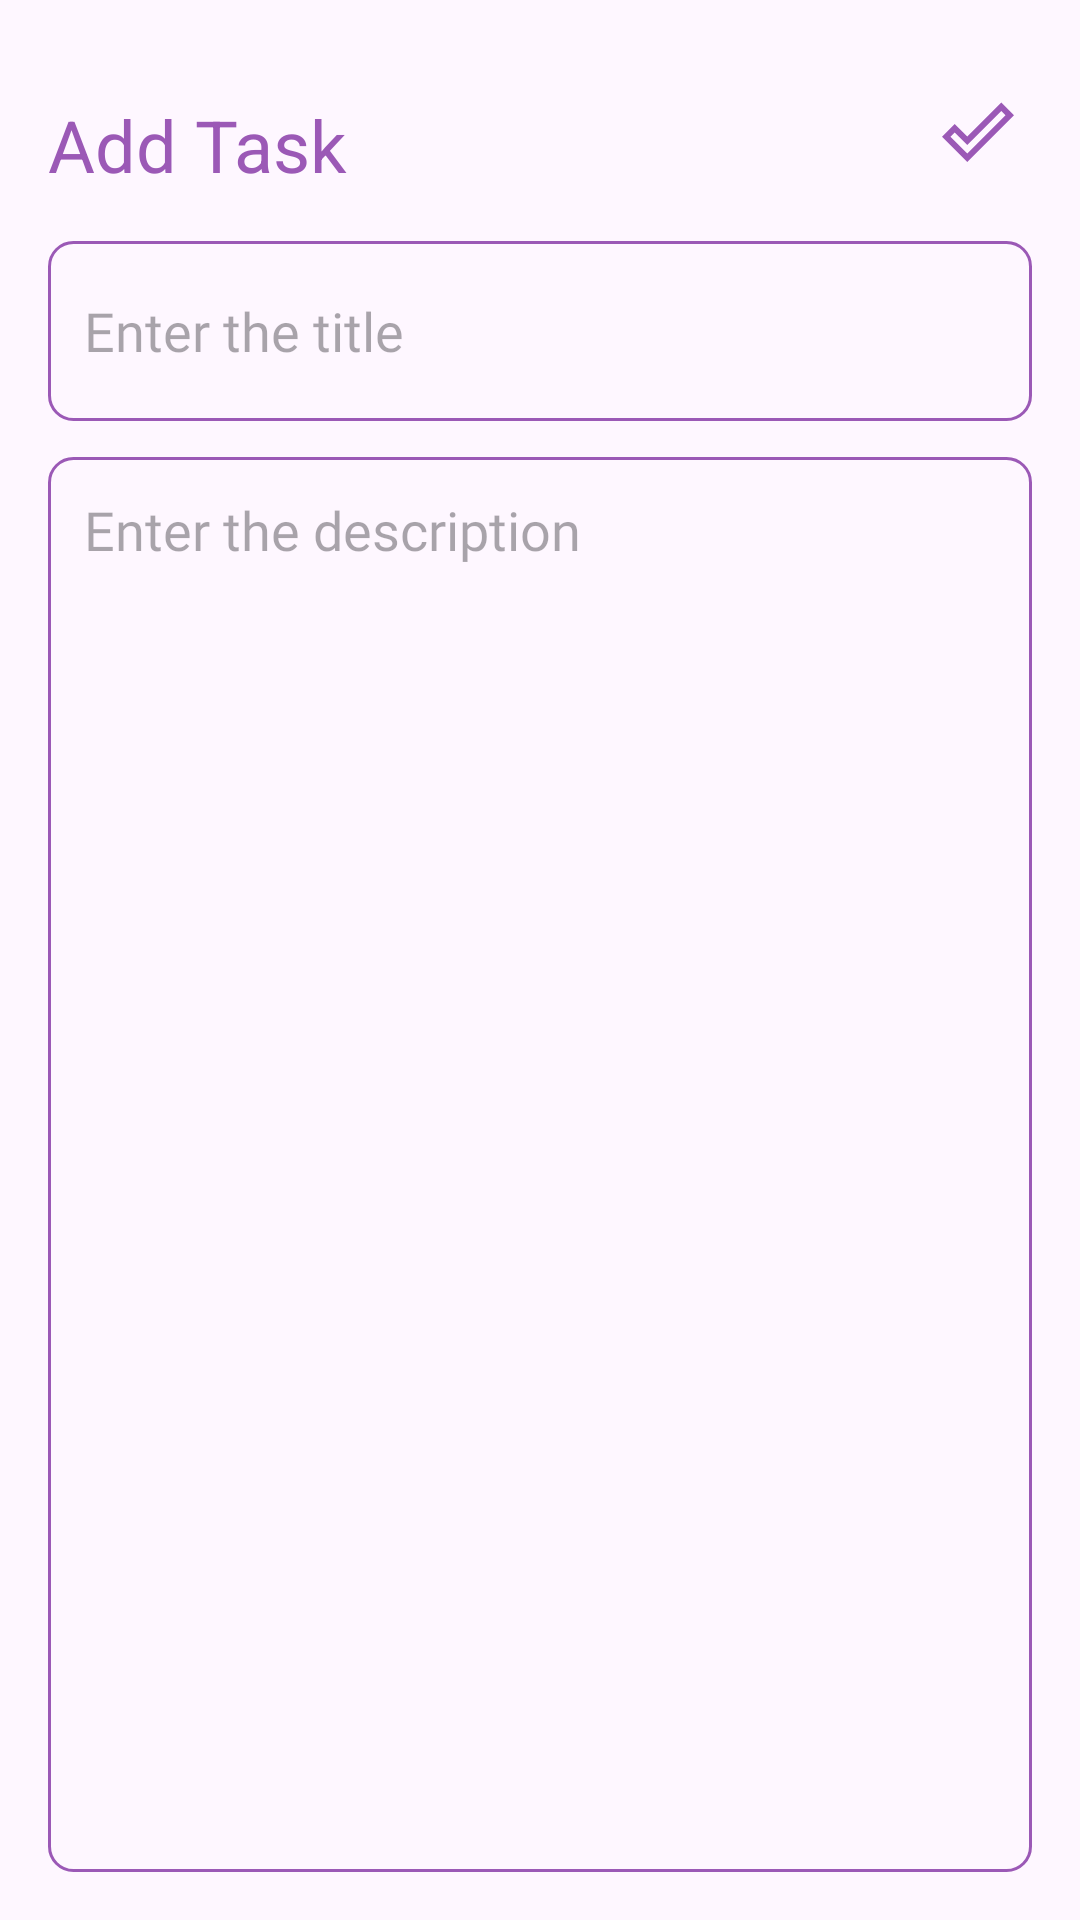

Icons on this 1080 × 1920 Android screen, each with its box as (x1, y1, x2, y2):
done: (942, 102, 1014, 162)
